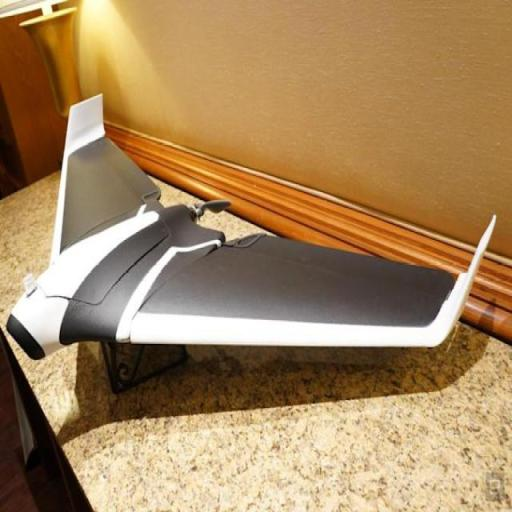uav: (5, 94, 503, 408)
